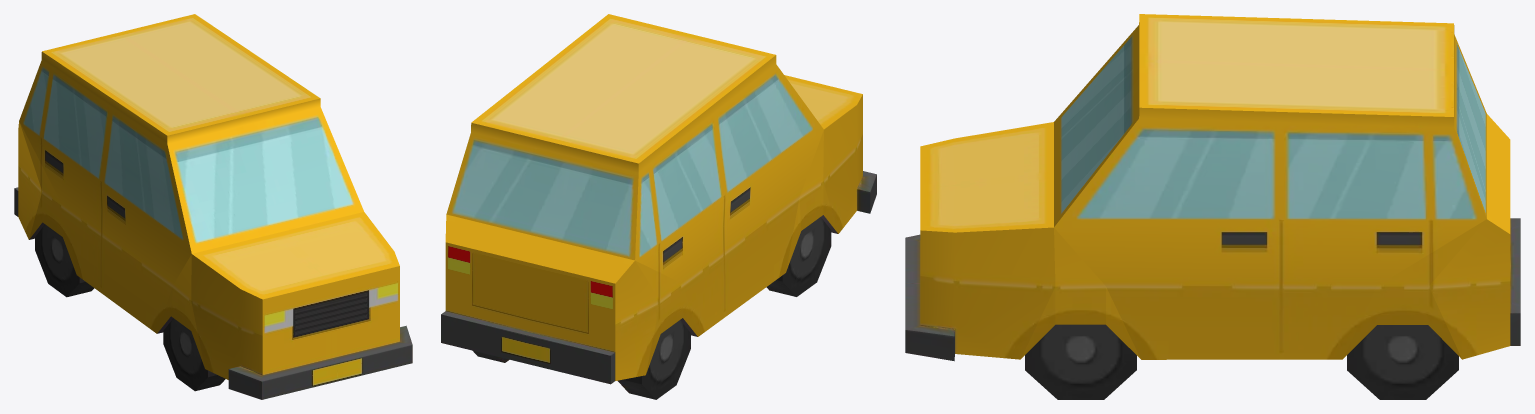
The model's file is city_car.glb.
3 views of the same model, side by side, from view 1: azimuth 30°, elevation 25°; view 2: azimuth 150°, elevation 25°; view 3: azimuth 270°, elevation 25° (orthographic). The views are drawn at different scales.
Visible parts, largest first — view 1: polySurface84; view 2: polySurface84; view 3: polySurface84.
Boxes of the visible parts, x1,y1,x2,y2 form: polySurface84: [14, 14, 412, 399]; polySurface84: [441, 14, 876, 399]; polySurface84: [905, 14, 1520, 399].
Size of the model in its own units: 1.52 by 1.88 by 3.63.
1 material, 1 textured.
